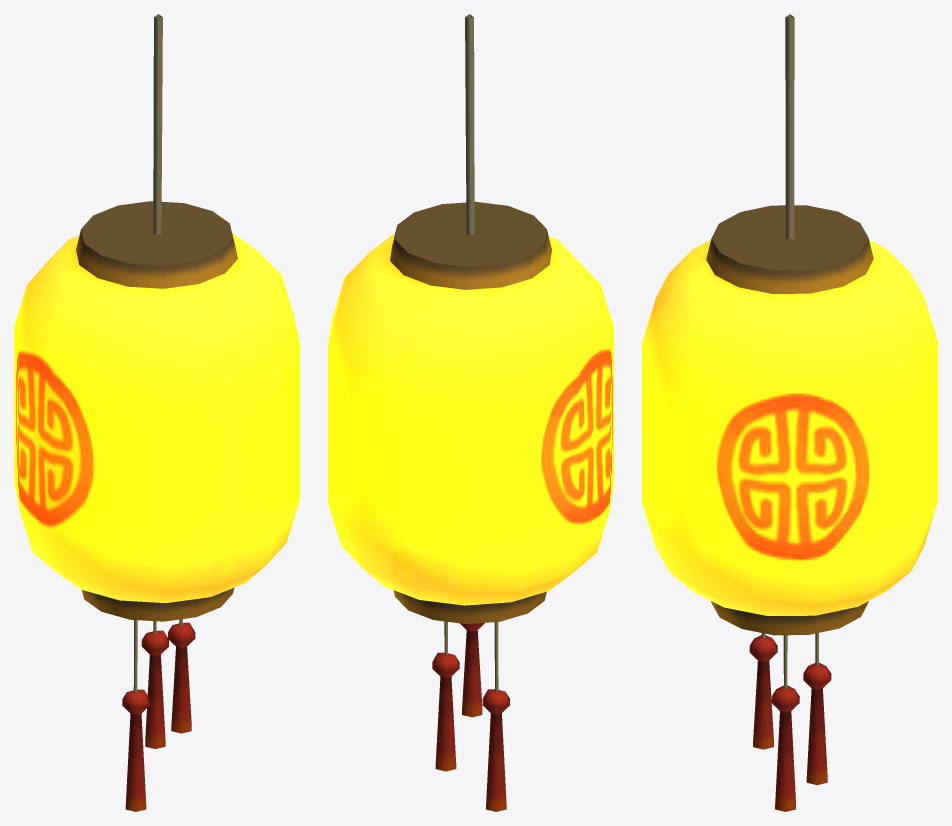
The model's file is lamp.glb.
The picture shows the model from 3 angles, left to right: view 1: azimuth 30°, elevation 25°; view 2: azimuth 150°, elevation 25°; view 3: azimuth 270°, elevation 25°; orthographic projection. The views are drawn at different scales.
Parts seen in each view (by area): view 1: LampCeiling_01; view 2: LampCeiling_01; view 3: LampCeiling_01.
Boxes of the visible parts, x1,y1,x2,y2 form: LampCeiling_01: [14, 14, 299, 811]; LampCeiling_01: [328, 14, 613, 811]; LampCeiling_01: [642, 14, 937, 811].
Size of the model in its own units: 0.2038 by 0.6245 by 0.2085.
Materials: 1 (1 with a texture image).
